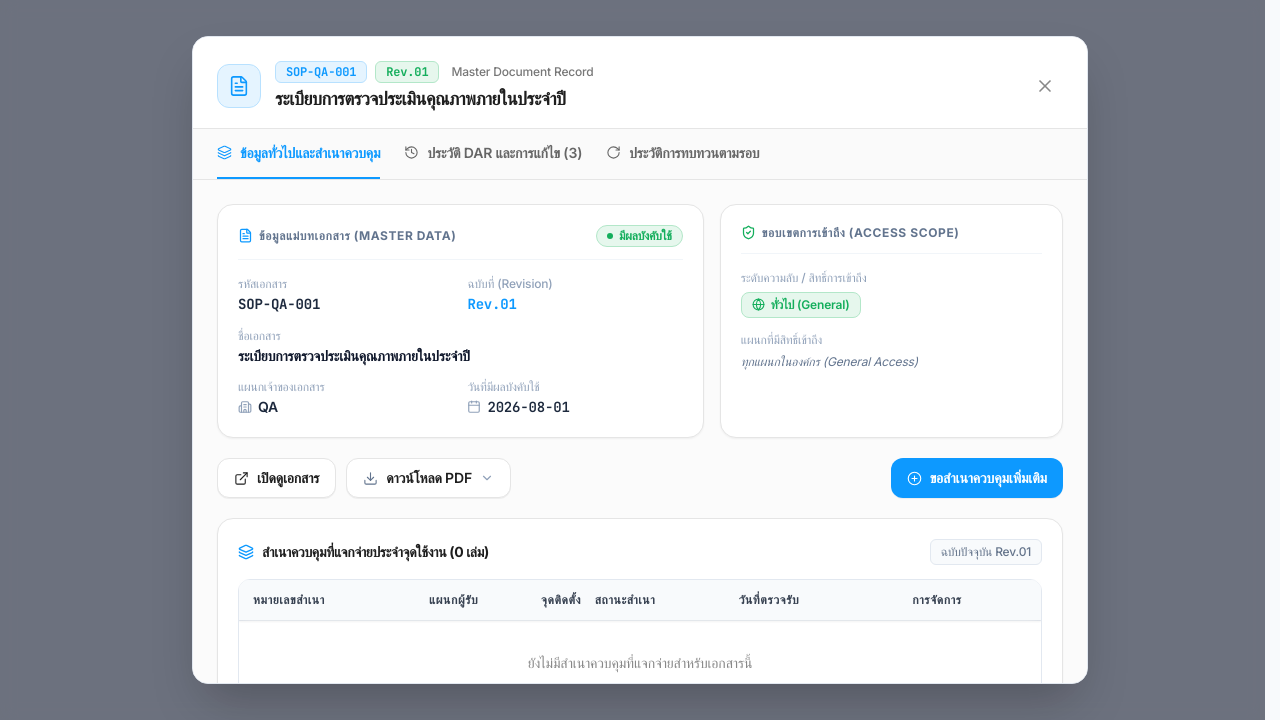
Cumulative DAR History Lineage (Audit Trail <= Current Revision) Tests › 2. Modal Header & Cumulative Timeline Display › shows the same unified history (all 3 DARs, newest first) when opening Rev.01
Expected: the text "ประวัติ DAR และการแก้ไข (3)" is shown, [428,143,582,163]
What coordinates should you click on to do the following:
click the button "ประวัติ DAR และการแก้ไข (3)"
I would click on:
 (493, 154)
Its box is [404,129,582,179].
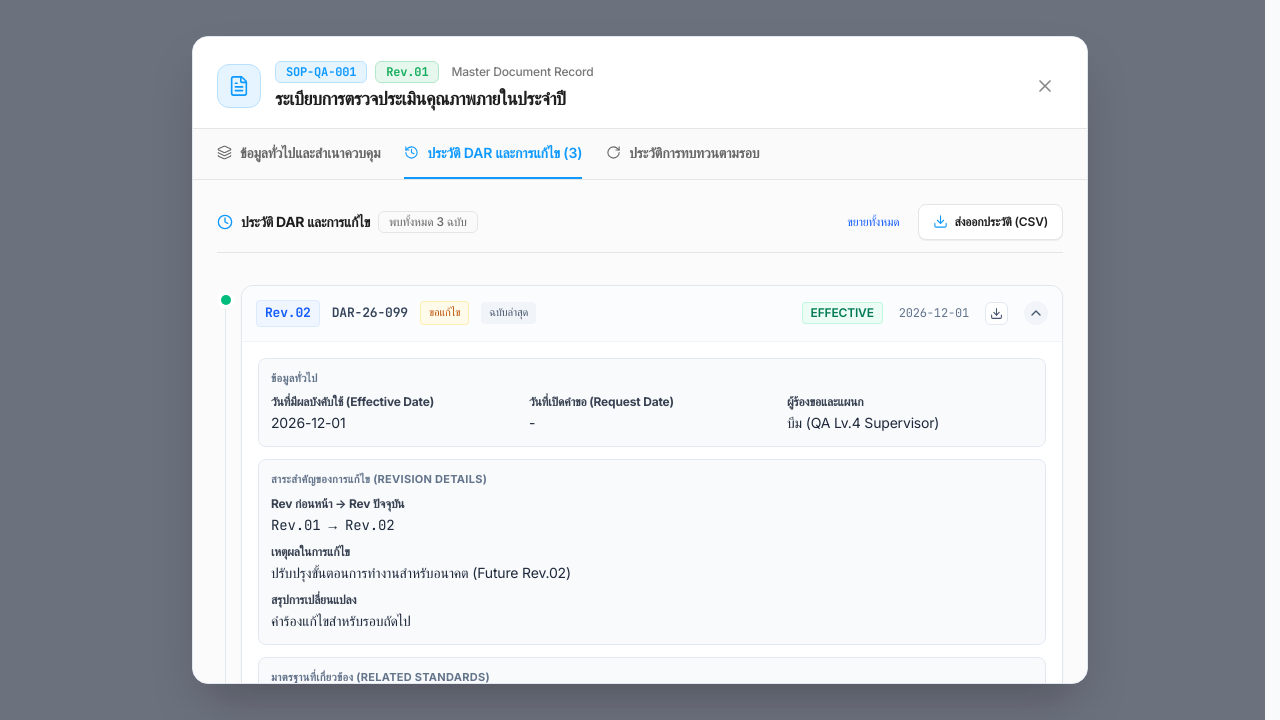
Now the text "พบทั้งหมด 3 ฉบับ" is shown, box [378,211,478,233]
Now the text "DAR-26-099" is shown, box [332,303,408,324]
